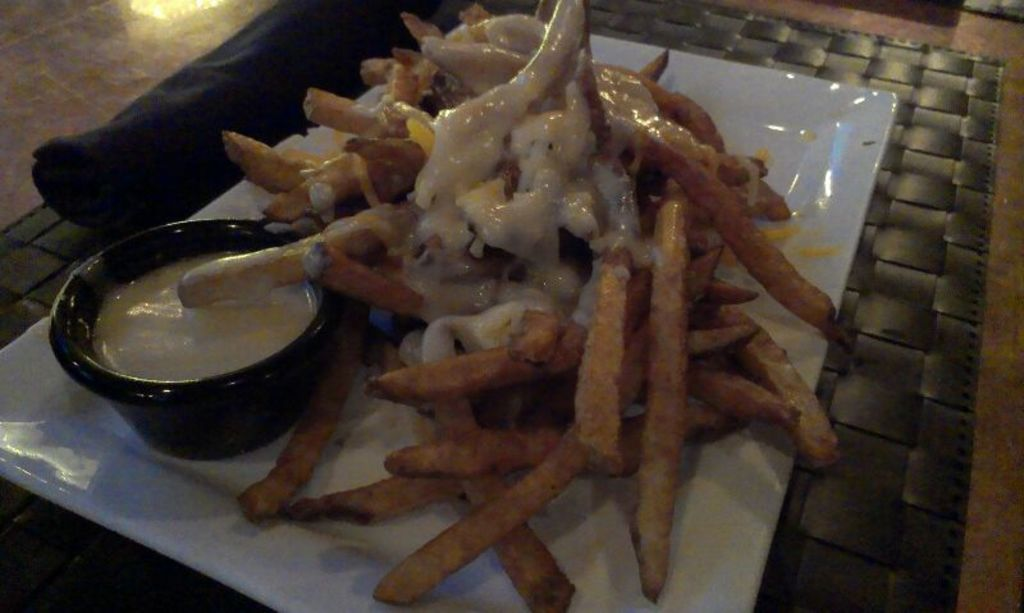French fries: (358, 138, 832, 561)
